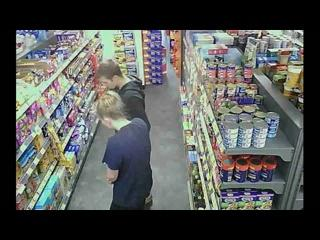Normal: (95, 90, 154, 210), (94, 59, 151, 132)
